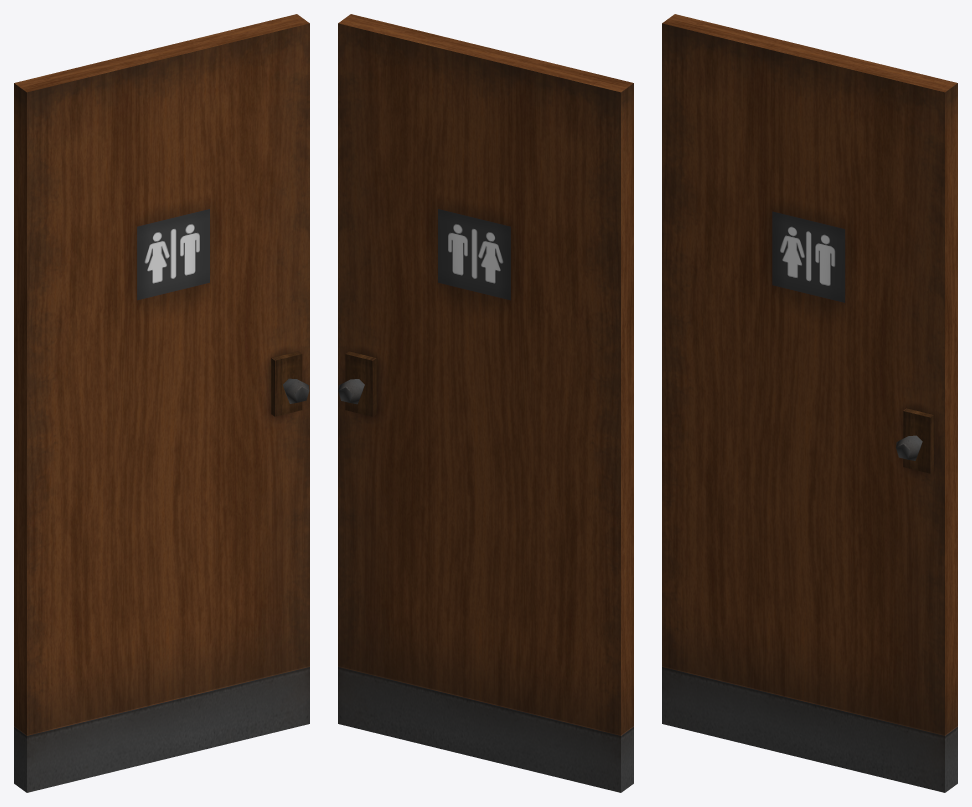
The model's file is Door_01.dae.
3 renders of one model, left to right at view 1: azimuth 30°, elevation 25°; view 2: azimuth 150°, elevation 25°; view 3: azimuth 330°, elevation 25°, orthographic.
Parts seen in each view (by area): view 1: Door_01; view 2: Door_01; view 3: Door_01.
Part boxes in pixels (<box>): Door_01: <box>14,14,309,792</box>; Door_01: <box>338,14,633,792</box>; Door_01: <box>662,14,957,792</box>.
Bounding box in the file's own units: 1.04 × 0.2988 × 2.45.
1 material, 1 textured.
